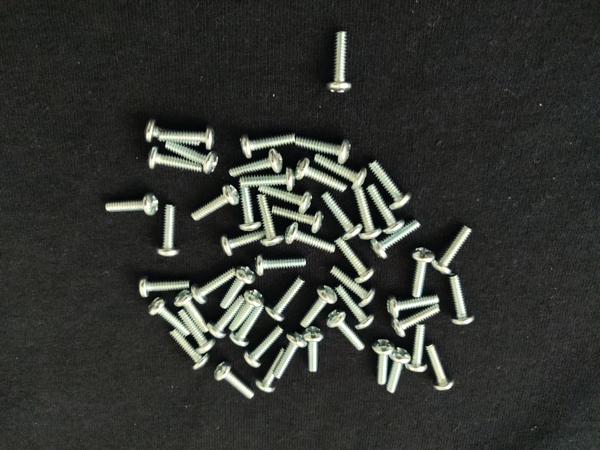shortscrew: (369, 160, 412, 210), (431, 226, 473, 275), (371, 220, 421, 260), (295, 157, 349, 193), (264, 276, 305, 323), (314, 153, 367, 189), (367, 184, 405, 234), (335, 237, 375, 284), (164, 142, 219, 176), (191, 184, 241, 221), (335, 285, 375, 331), (330, 267, 376, 307), (273, 332, 309, 380), (326, 309, 366, 352), (244, 326, 284, 369), (148, 297, 191, 337), (178, 309, 216, 354), (326, 31, 353, 94), (209, 295, 246, 340), (295, 135, 352, 164), (392, 305, 442, 338), (284, 222, 337, 253), (170, 330, 210, 371), (158, 123, 216, 151), (229, 148, 283, 178), (258, 185, 313, 214), (256, 193, 285, 248), (146, 144, 201, 173), (229, 303, 264, 348), (272, 204, 324, 234), (239, 132, 296, 159), (215, 362, 255, 400), (425, 343, 456, 392), (229, 289, 264, 332), (239, 167, 295, 193), (450, 275, 476, 326), (387, 294, 440, 319), (219, 229, 265, 256), (411, 249, 436, 298), (237, 184, 263, 231), (254, 254, 307, 277), (106, 194, 159, 216), (387, 347, 412, 393), (140, 276, 190, 299), (406, 323, 428, 373), (160, 203, 180, 258), (373, 339, 395, 386), (304, 326, 324, 373)
